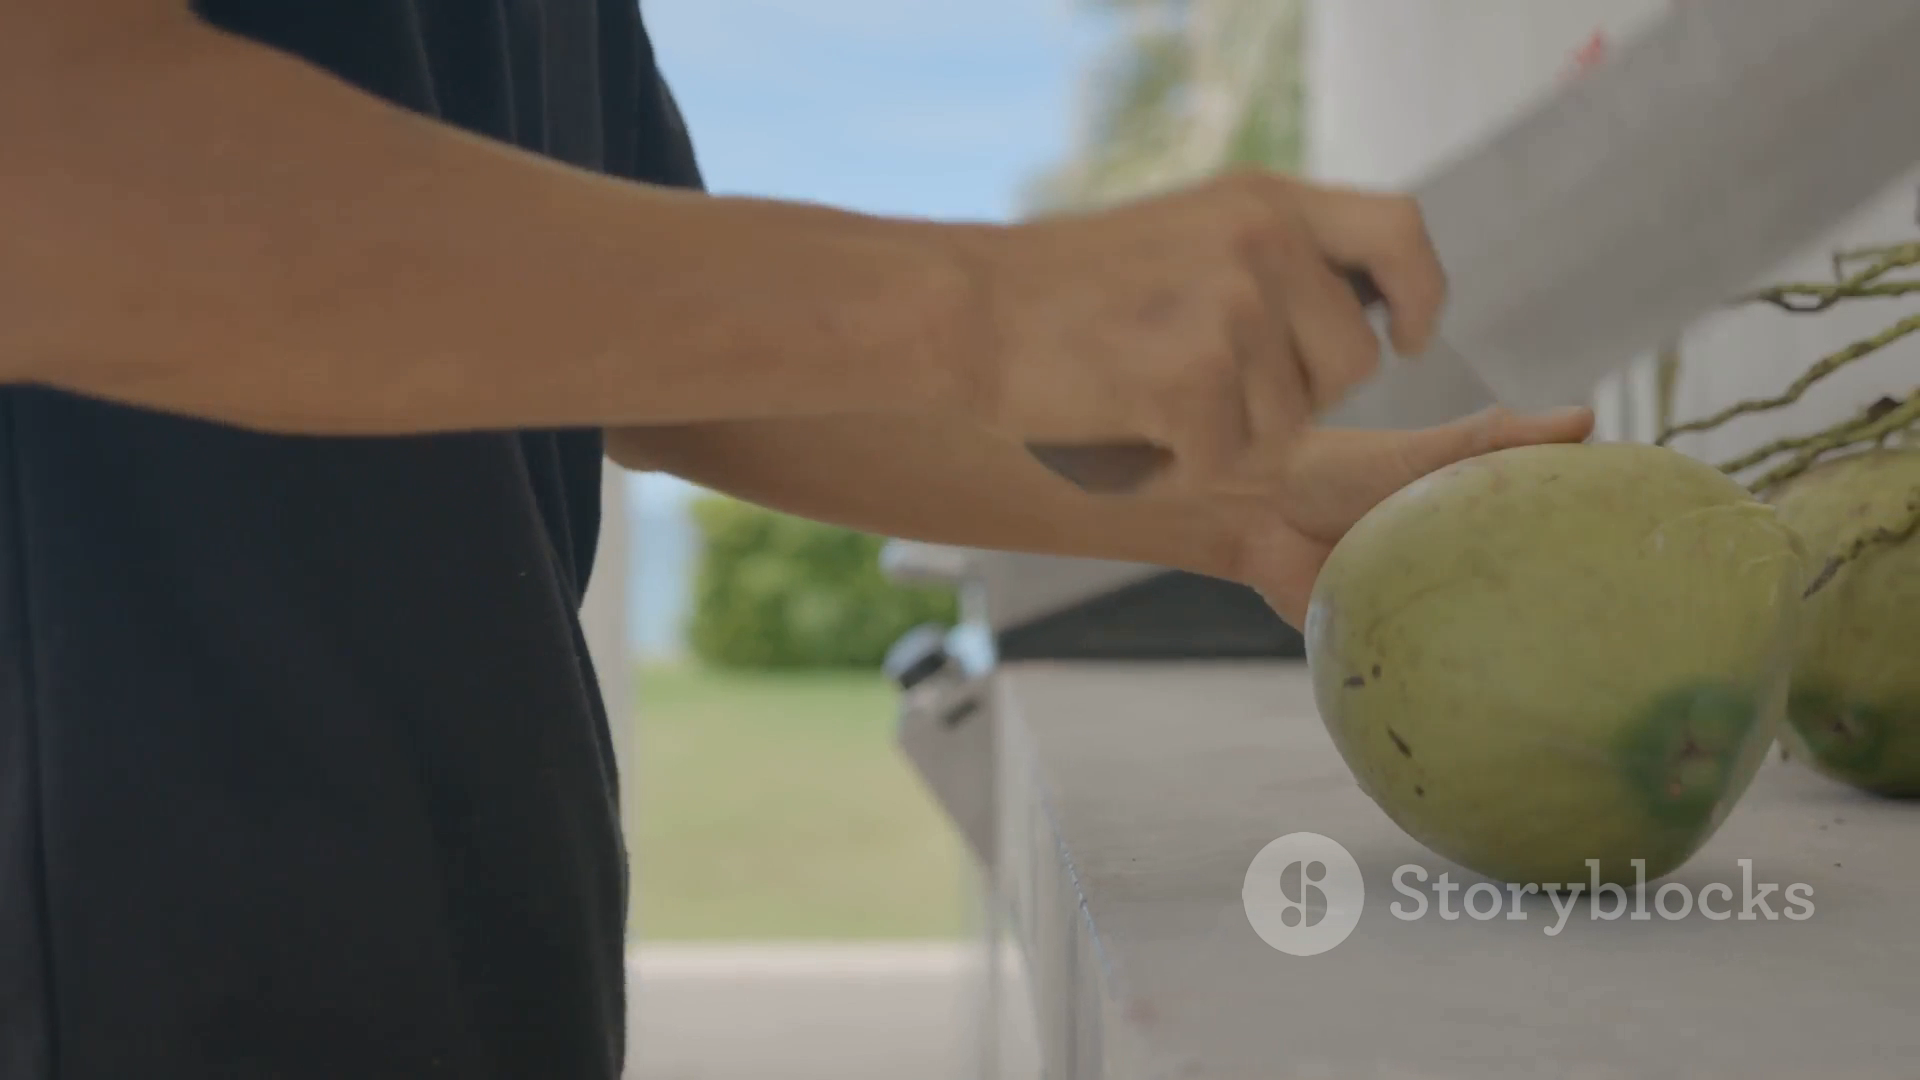cortante: (1404, 0, 1920, 422)
